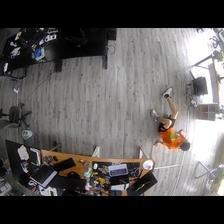fall: (150, 86, 194, 150)
